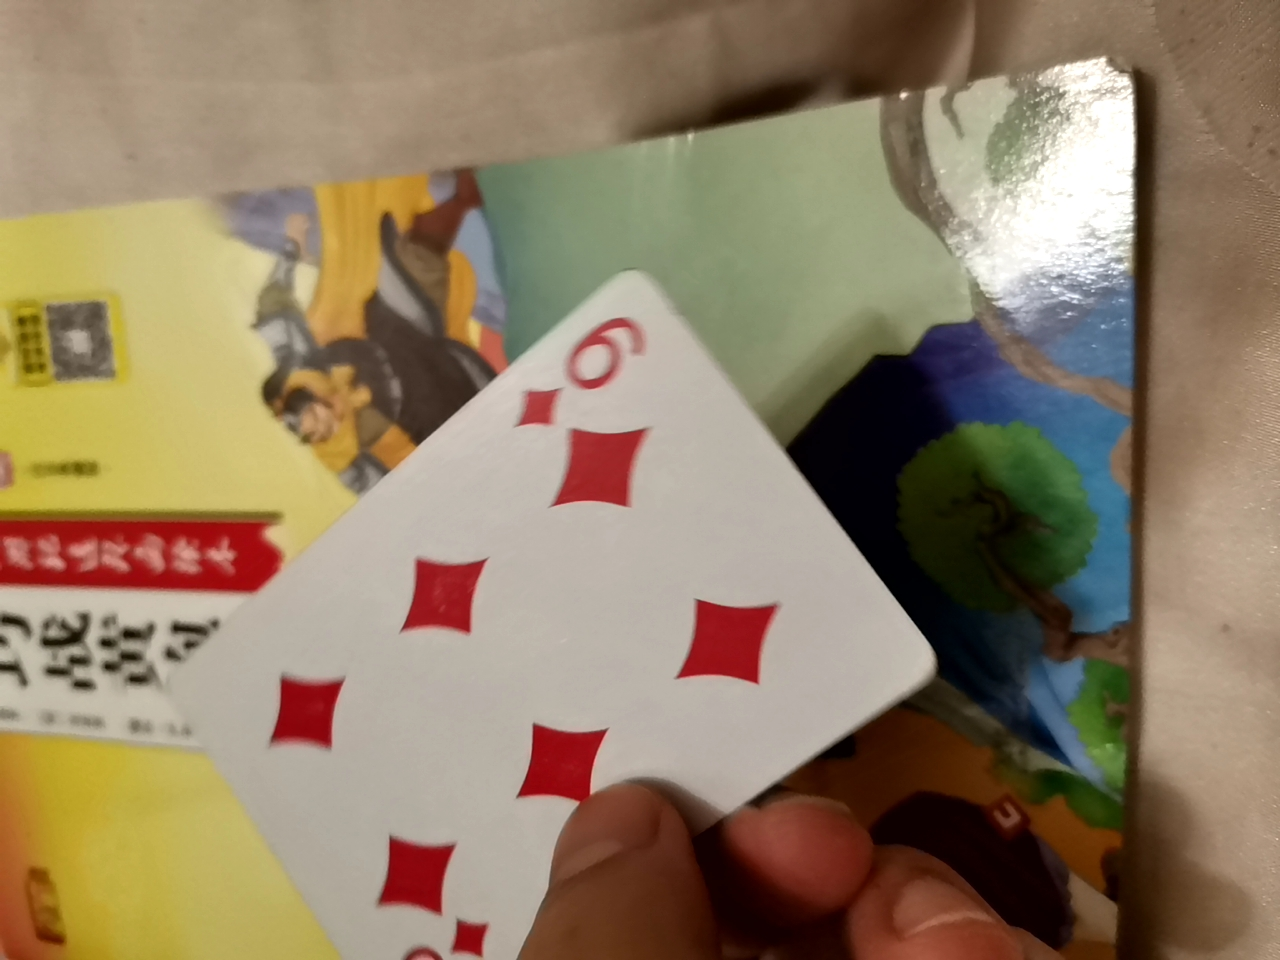fk 6: (163, 275, 966, 954)
